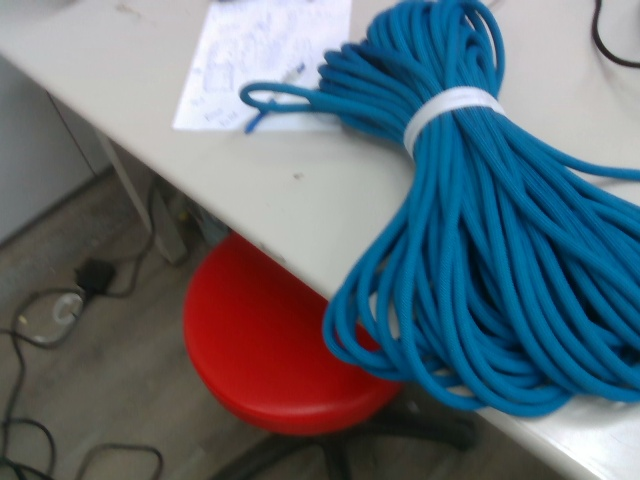rope: (235, 2, 640, 421)
